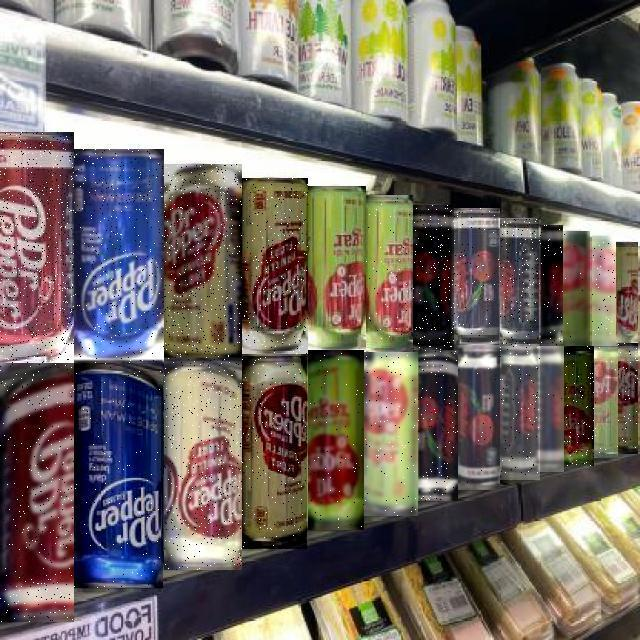Drinks: (72, 364, 163, 592), (74, 150, 164, 366), (0, 363, 74, 622), (1, 132, 75, 366), (164, 358, 242, 570), (164, 164, 242, 361), (242, 356, 307, 549), (243, 178, 309, 354), (308, 350, 364, 530), (308, 186, 366, 352), (364, 352, 418, 516), (365, 195, 413, 354), (416, 348, 458, 501), (455, 209, 500, 349), (414, 205, 456, 350), (458, 345, 500, 490), (499, 218, 541, 347), (500, 346, 540, 480), (563, 346, 594, 466), (538, 346, 564, 472), (564, 231, 592, 346), (540, 226, 563, 346), (594, 347, 618, 458), (592, 236, 616, 346), (616, 242, 638, 346), (619, 343, 639, 454)
